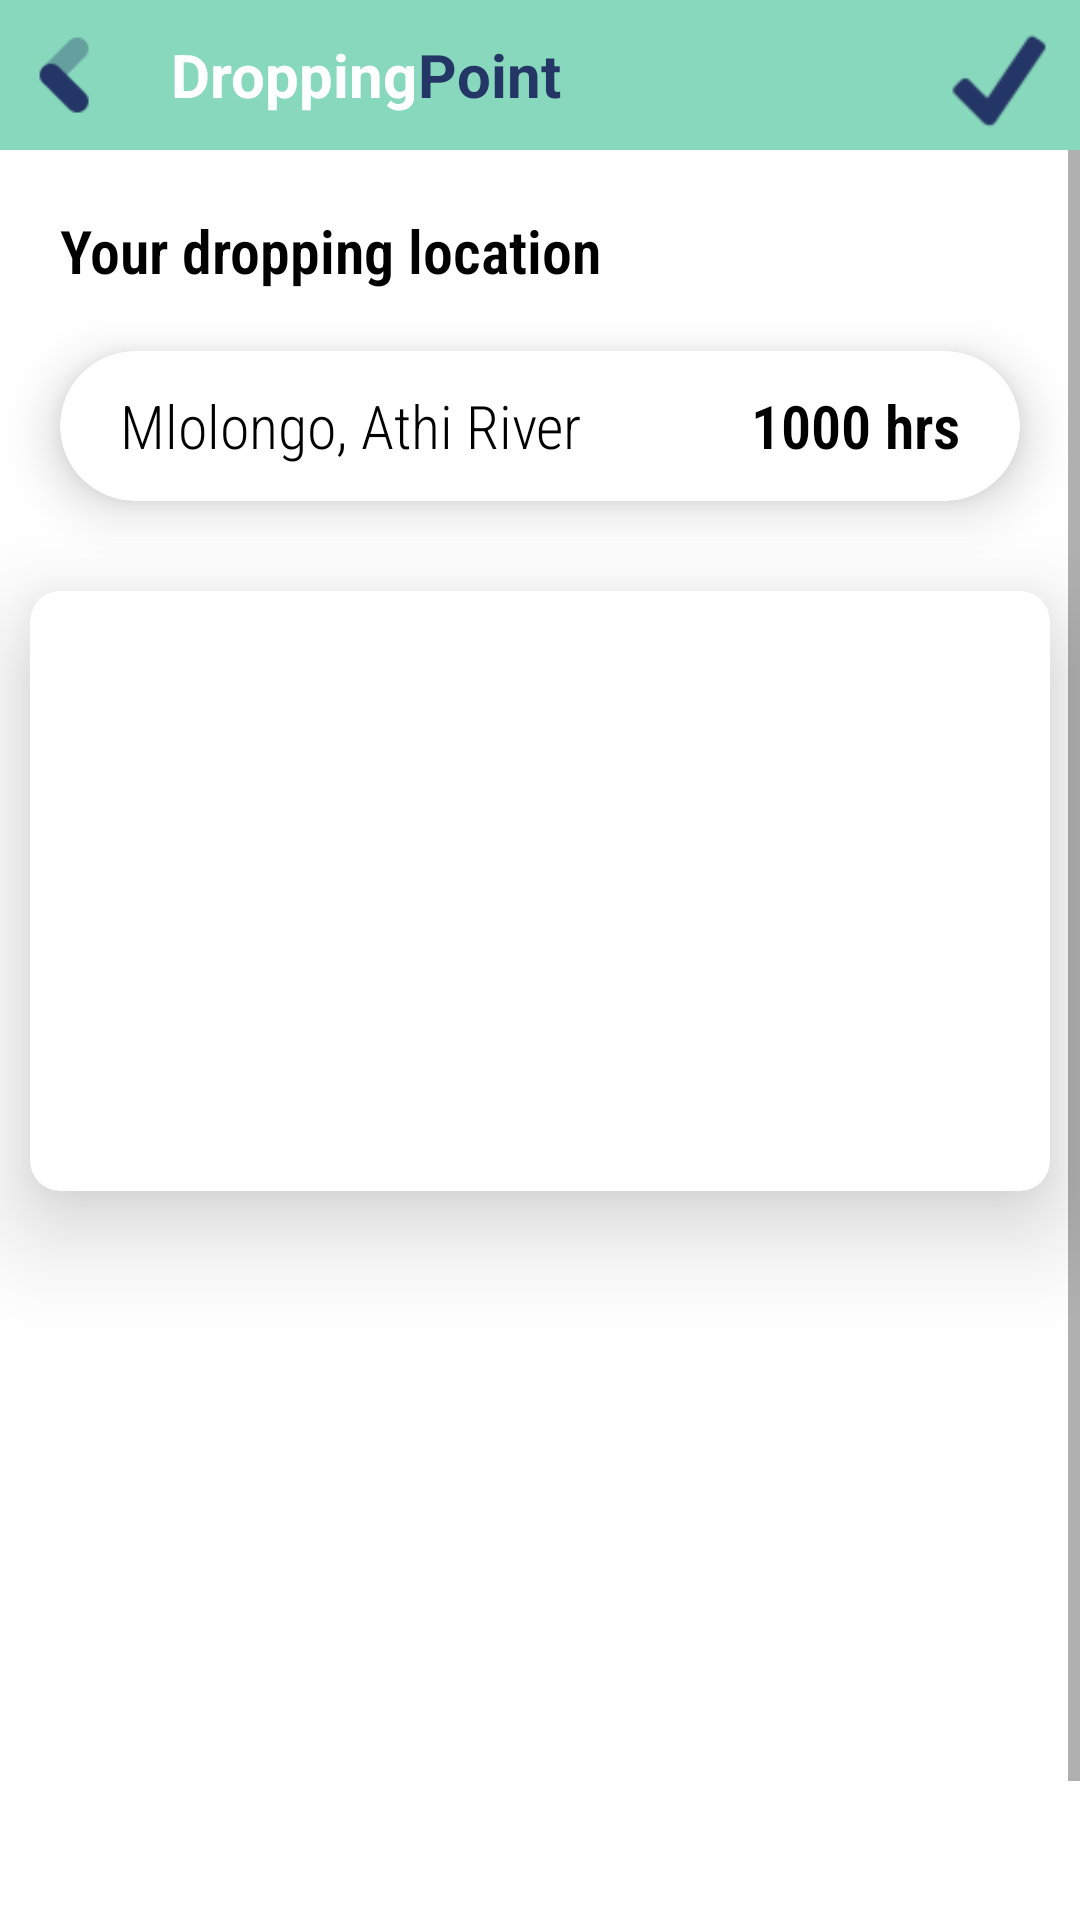

Screen size 1080×1920. Icon name, then its box in pixels as (x1, y1, x2, y2):
back: (39, 37, 89, 113)
done: (952, 35, 1046, 126)
